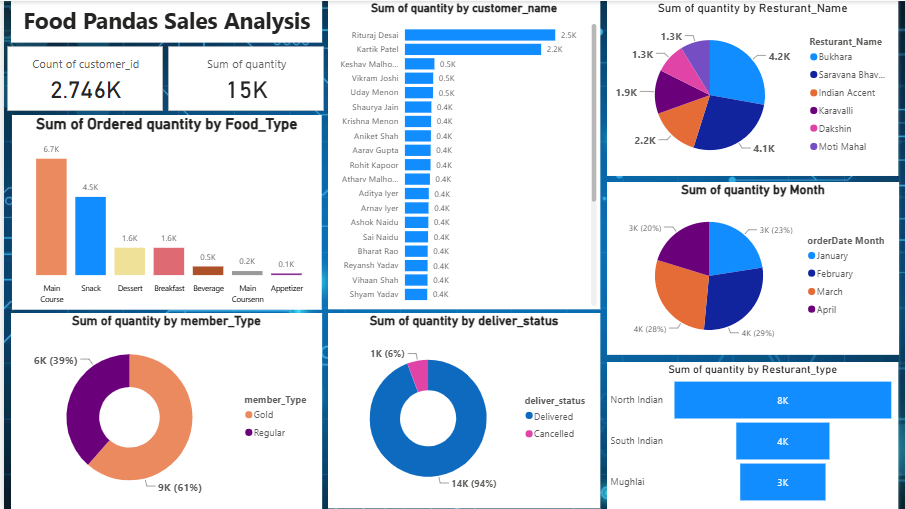

The page's visual inventory and layout, read from the dashboard file:
{"tool":"powerbi","page":{"name":"DashBoard","canvas":[1280,720],"ordinal":0},"visuals":[{"type":"clusteredColumnChart","title":"Sum of Ordered quantity by Food_Type","fields":{"Y":["Sum(Orders Data.quantity)"],"Category":["Food_Details.Food_Type"]},"box":[11.1,161.1,438.9,275.9],"z":0},{"type":"donutChart","fields":{"Y":["Sum(Orders Data.quantity)"],"Category":["Customer Details.member_Type"]},"box":[9.9,442.2,440.8,277.8],"z":1000},{"type":"funnel","fields":{"Y":["Sum(Orders Data.quantity)"],"Category":["Resturant_Details.Resturant_type"]},"box":[854.2,511,412.9,209],"z":2000},{"type":"barChart","fields":{"Category":["Customer Details.customer_name"],"Y":["Sum(Orders Data.quantity)"]},"box":[459.4,0,385.8,437.4],"z":3000},{"type":"pieChart","fields":{"Category":["Resturant_Details.Resturant_Name"],"Y":["Sum(Orders Data.quantity)"]},"box":[854.2,0,412.9,247.7],"z":4000},{"type":"donutChart","fields":{"Category":["Orders Data.deliver_status"],"Y":["Sum(Orders Data.quantity)"]},"box":[459.4,442.6,385.8,277.4],"z":5000},{"type":"cardVisual","fields":{"Data":["CountNonNull(Orders Data.customer_id)","Sum(Orders Data.quantity)"]},"box":[0,59.3,459.3,101.9],"z":6000},{"type":"textbox","box":[10.3,0,441.3,59.4],"z":7000},{"type":"pieChart","fields":{"Category":["Orders Data.orderDate.Variation.Date Hierarchy.Month"],"Y":["Sum(Orders Data.quantity)"]},"box":[854.2,256.8,414.2,245.2],"z":8000}]}

Visuals, with their boxes in screenshot pixels (x1, y1, x2, y2), scaled from the page's 1280x720 canvas onto the 905x509 screenshot:
"Sum of Ordered quantity by Food_Type" clusteredColumnChart: bbox(8, 114, 318, 309)
donutChart - Sum(Orders Data.quantity) x Customer Details.member_Type: bbox(7, 313, 319, 508)
funnel - Sum(Orders Data.quantity) x Resturant_Details.Resturant_type: bbox(604, 361, 896, 508)
barChart - Customer Details.customer_name x Sum(Orders Data.quantity): bbox(325, 0, 598, 309)
pieChart - Resturant_Details.Resturant_Name x Sum(Orders Data.quantity): bbox(604, 0, 896, 175)
donutChart - Orders Data.deliver_status x Sum(Orders Data.quantity): bbox(325, 313, 598, 508)
cardVisual - CountNonNull(Orders Data.customer_id) x Sum(Orders Data.quantity): bbox(0, 42, 325, 114)
textbox: bbox(7, 0, 319, 42)
pieChart - Orders Data.orderDate.Variation.Date Hierarchy.Month x Sum(Orders Data.quantity): bbox(604, 182, 897, 355)
